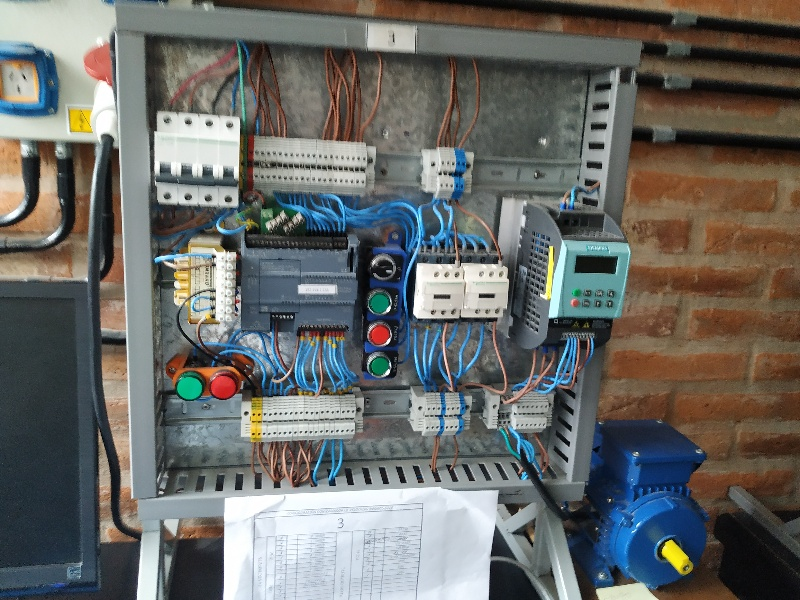Tablero 3: (136, 23, 631, 491)
